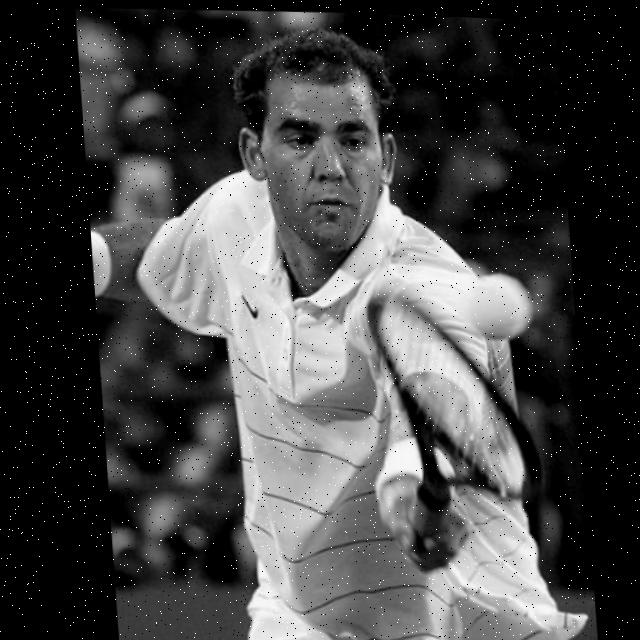face: (227, 63, 399, 254)
